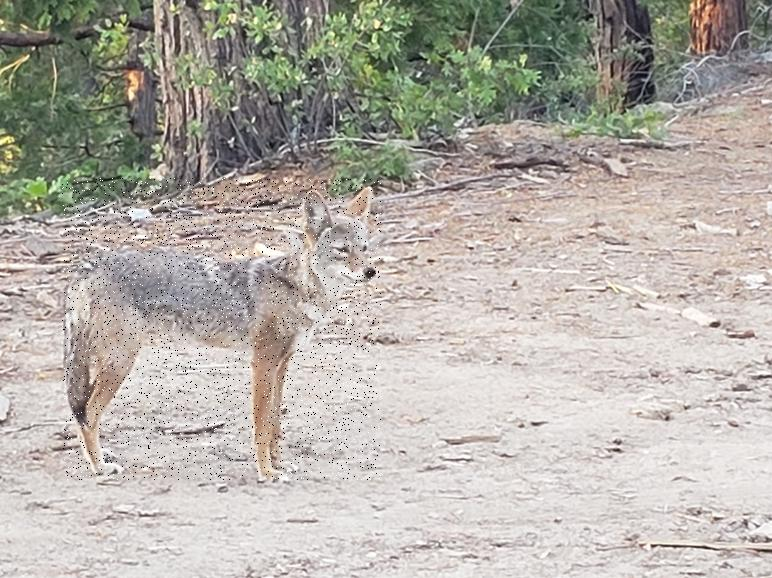Coyote: (62, 178, 381, 480)
